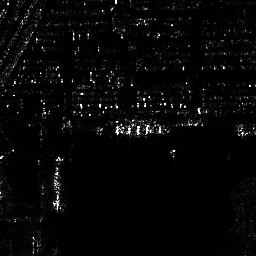ship: (53, 168, 63, 211)
